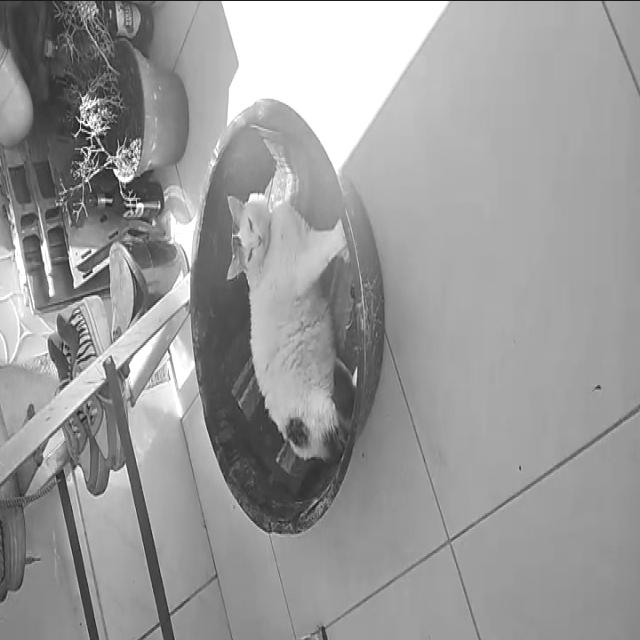Simba: (223, 120, 349, 497)
